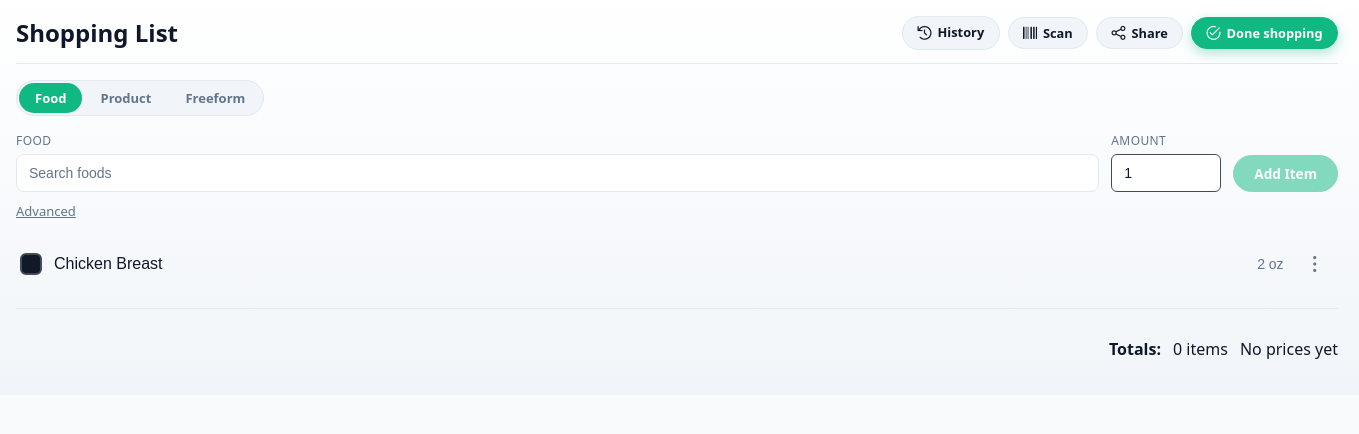
Test: ShoppingListView › rolls the status back and shows an error when the update fails
Click the option "Chicken Breast 2 oz" at (108, 264), box x1=20 y1=248 x2=1334 y2=280
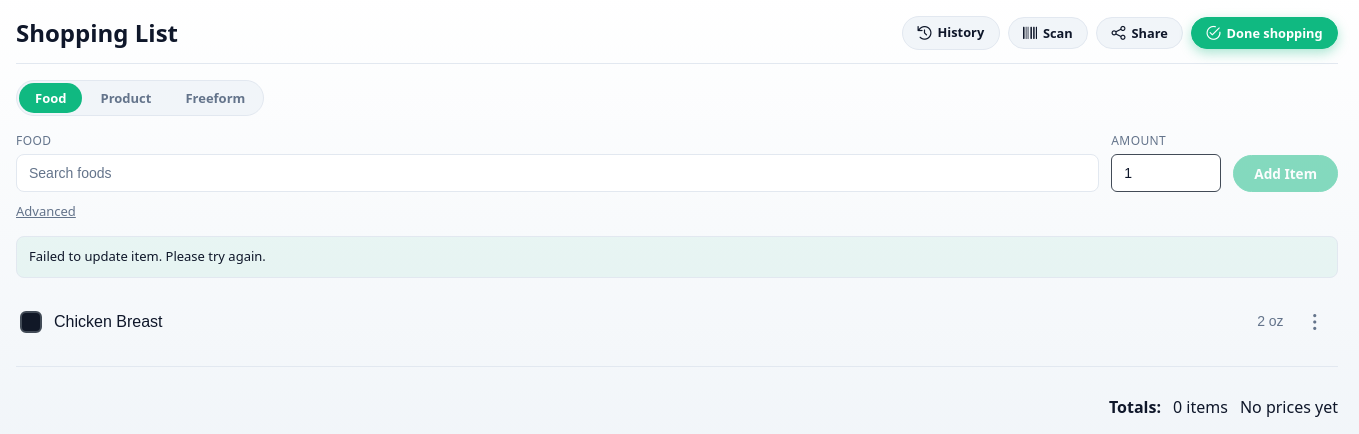
Result: the message shows "Failed to update" at x1=29 y1=247 x2=266 y2=265
